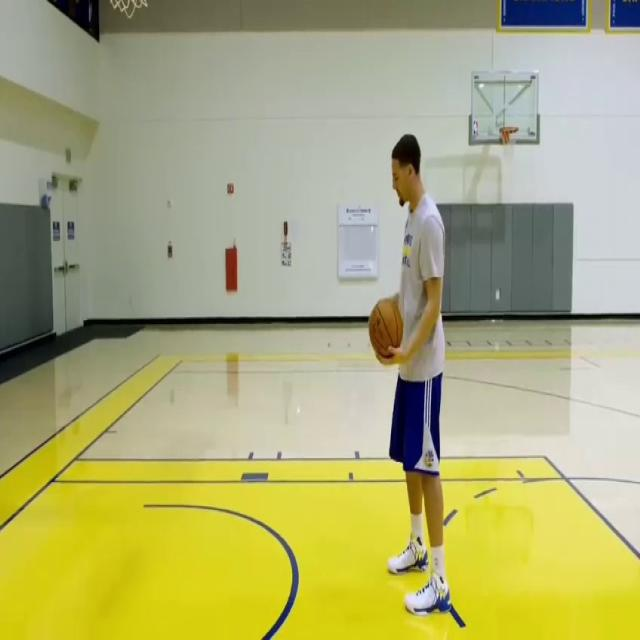ball: (368, 298, 403, 359)
